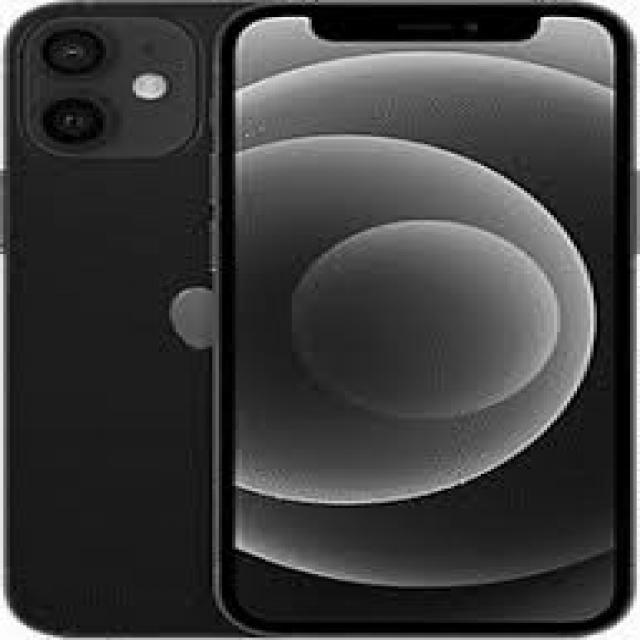fake: (208, 4, 640, 640)
